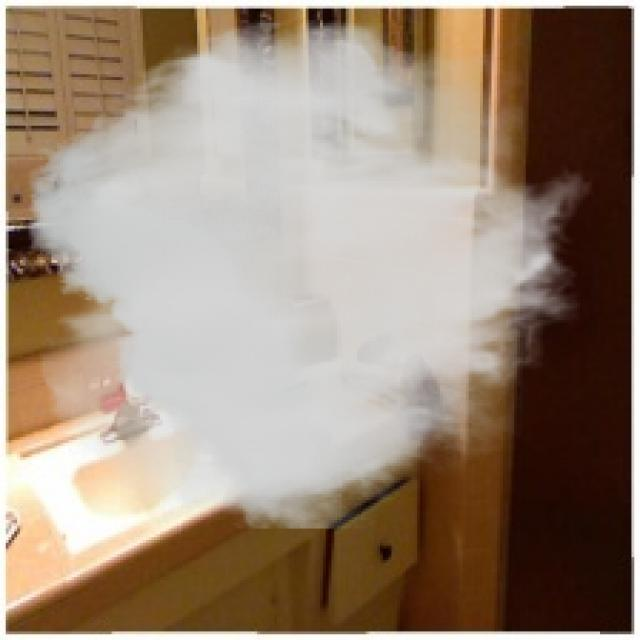Smoke: (28, 14, 594, 529)
